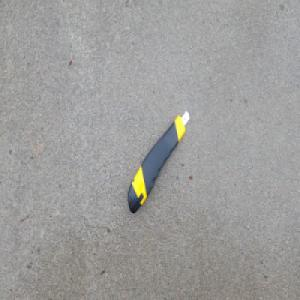Cutter: (127, 109, 190, 215)
